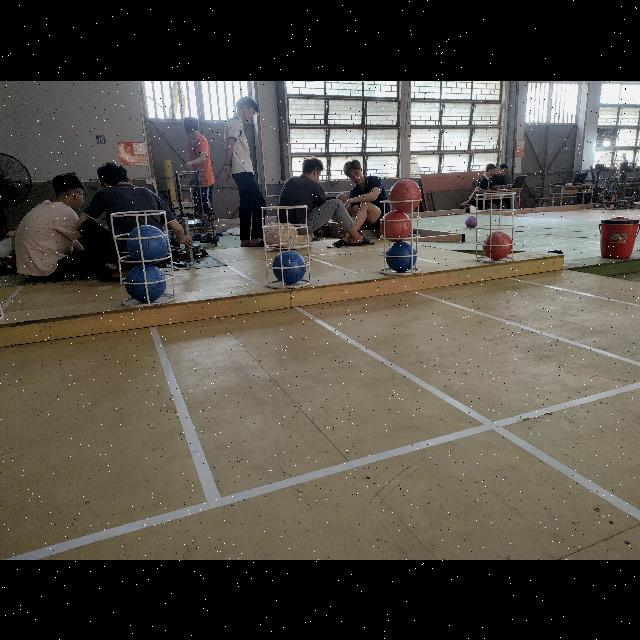B: (127, 223, 169, 264), (124, 263, 166, 301), (272, 249, 306, 283), (385, 240, 417, 272)
R: (390, 178, 422, 210), (482, 230, 514, 260), (380, 210, 410, 240)
